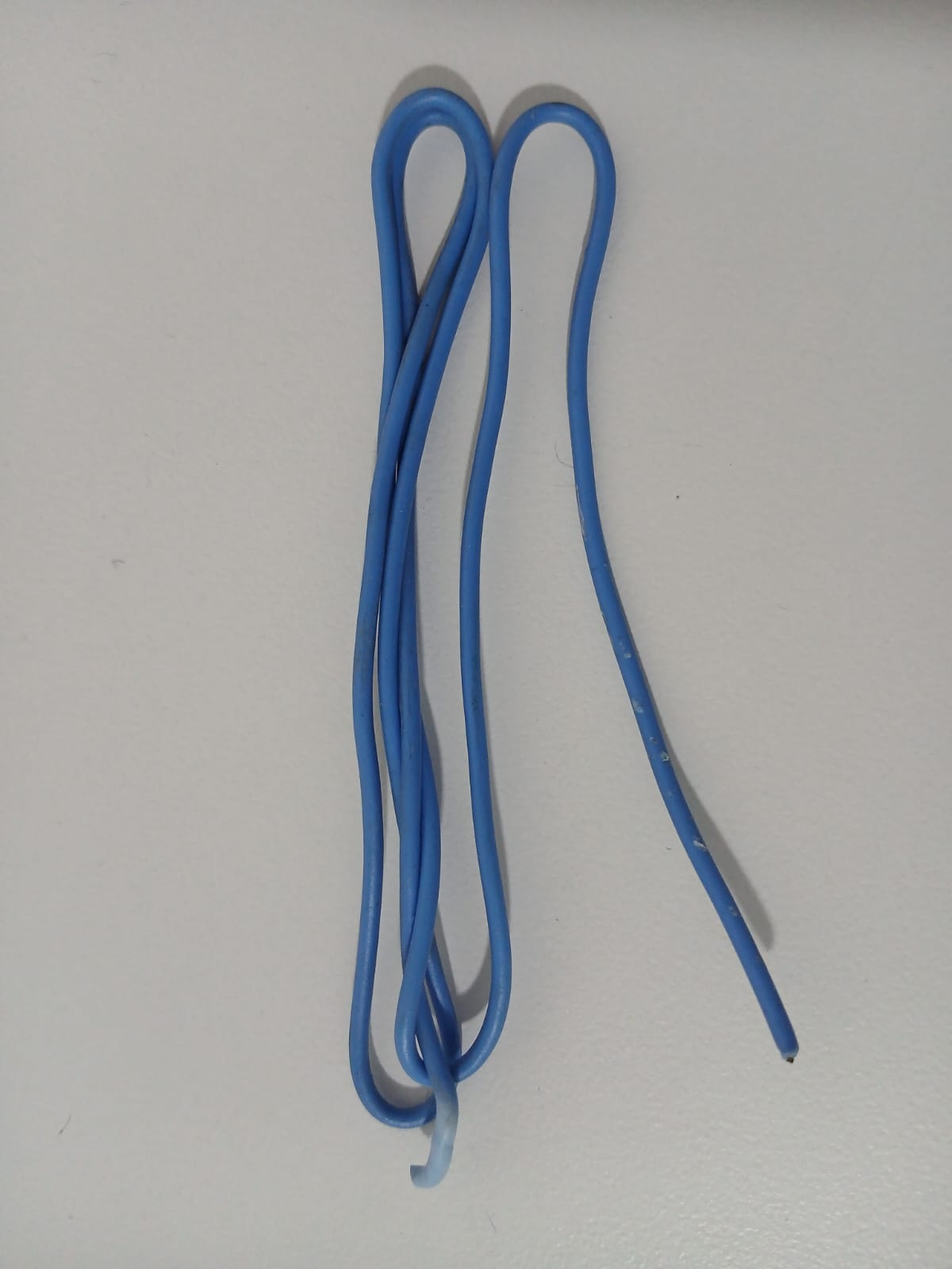Ordinario: (347, 87, 802, 1189)
